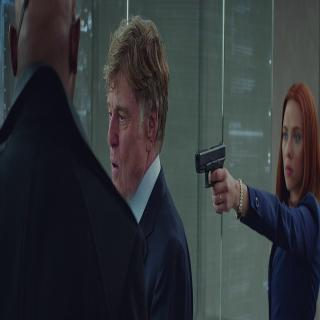gun: (195, 136, 228, 214)
